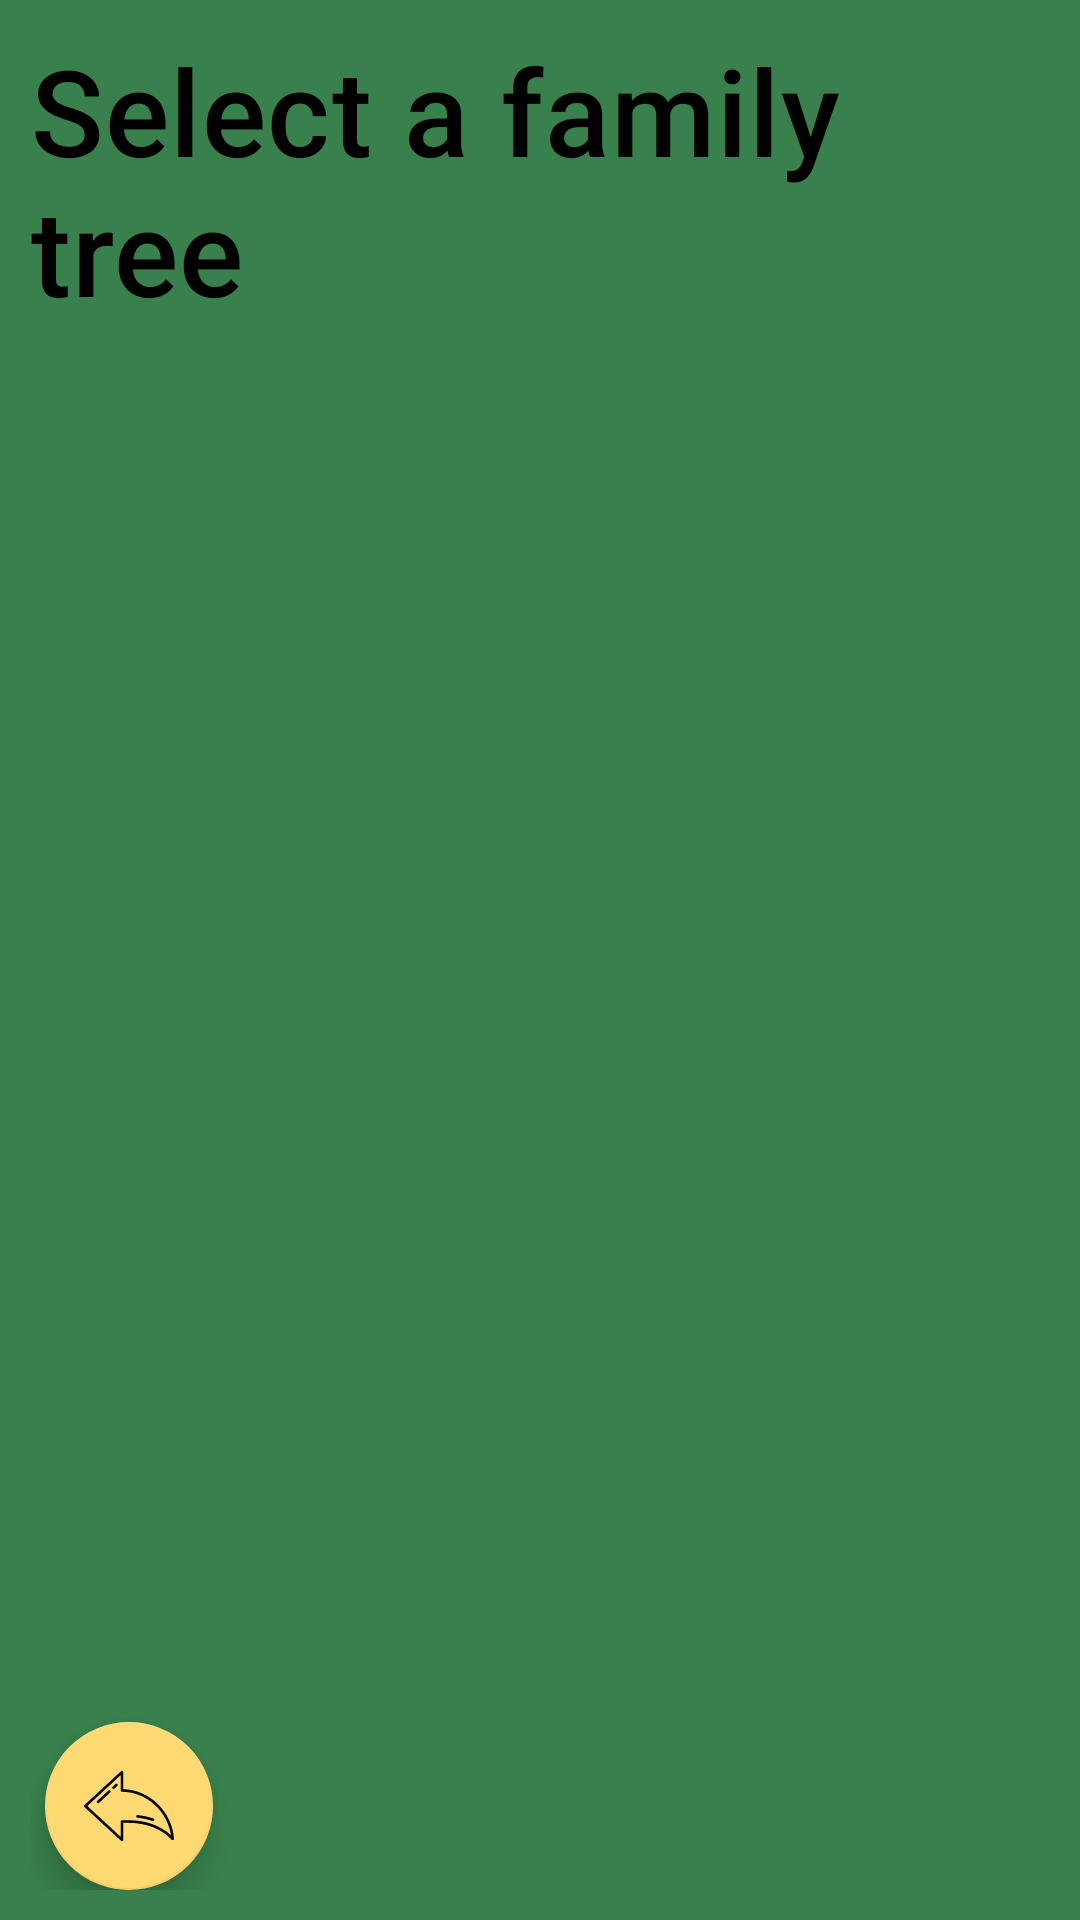

Icons on this 1080px×1920px Android screen, each with its box as (x1, y1, x2, y2):
a back arrow: (45, 1722, 213, 1890)
